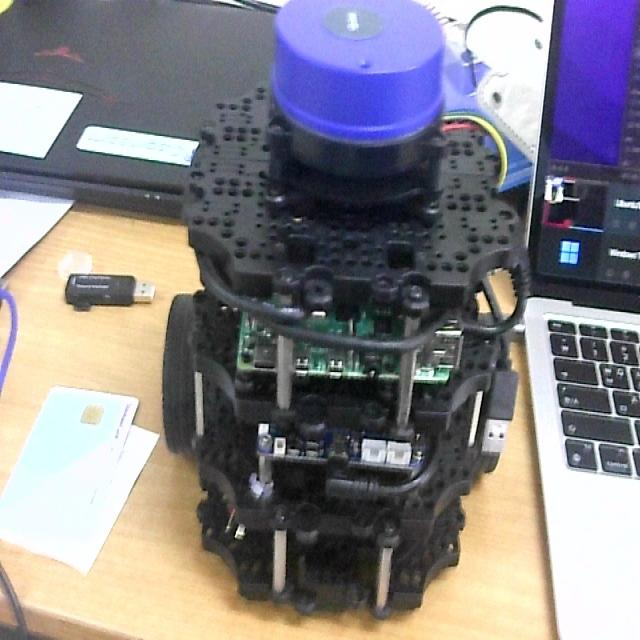turtle: (162, 0, 532, 628)
